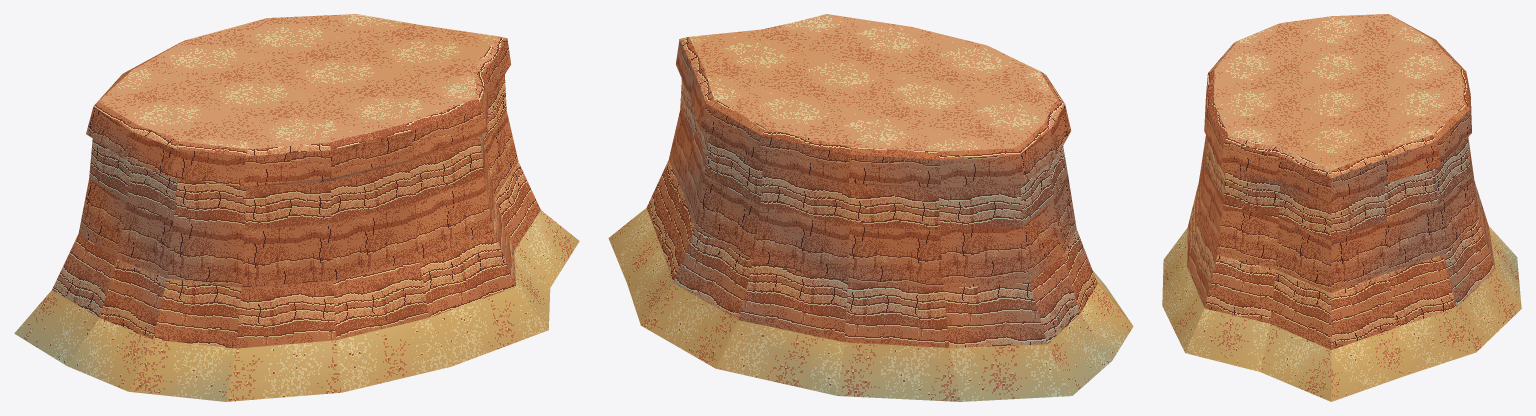
The model's file is wland.mesa__far.glb.
The picture shows the model from 3 angles, left to right: view 1: azimuth 30°, elevation 25°; view 2: azimuth 150°, elevation 25°; view 3: azimuth 270°, elevation 25°; orthographic projection. The views are drawn at different scales.
Visible parts, largest first — view 1: kit_mesa; view 2: kit_mesa; view 3: kit_mesa.
Boxes of the visible parts, bbox=[...] form: kit_mesa: bbox=[14, 14, 579, 401]; kit_mesa: bbox=[608, 14, 1133, 401]; kit_mesa: bbox=[1162, 14, 1521, 401].
Bounding box in the file's own units: 36.22 × 15 × 24.84.
Materials: 4 (4 with a texture image).
